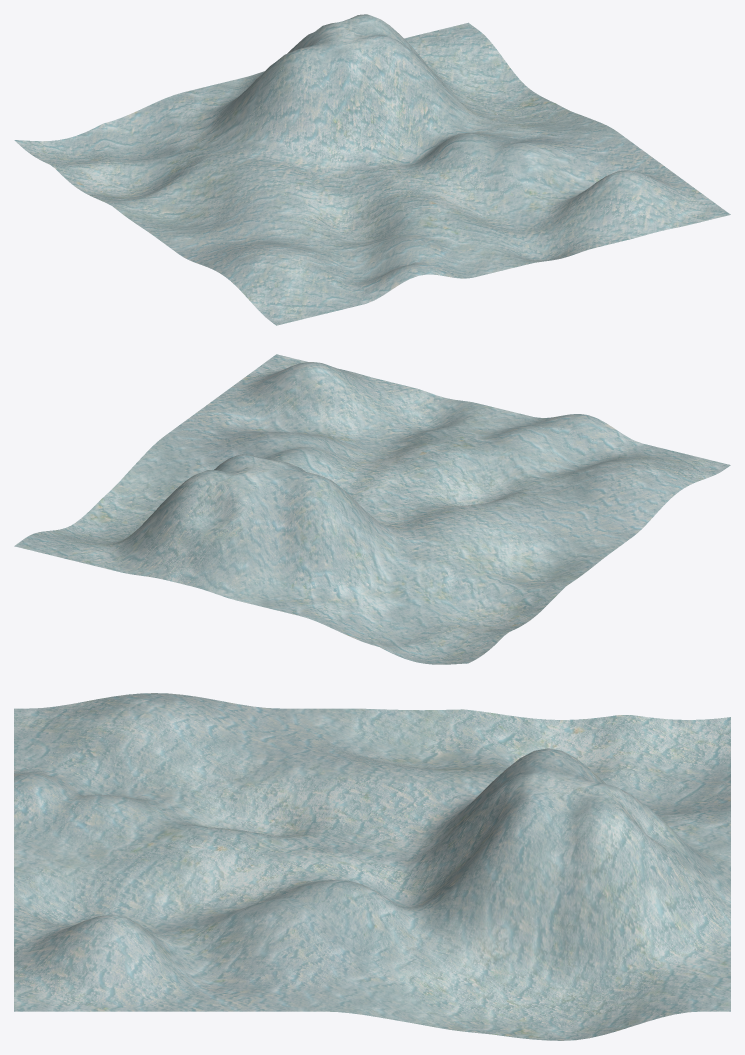
File: terrian-ice-field-v1.glb
3 views of the same model, one above another, from view 1: azimuth 30°, elevation 25°; view 2: azimuth 150°, elevation 25°; view 3: azimuth 270°, elevation 25° (orthographic). The views are drawn at different scales.
Visible parts, largest first — view 1: Plane; view 2: Plane; view 3: Plane.
Boxes of the visible parts, bbox=[...] form: Plane: bbox=[14, 14, 730, 325]; Plane: bbox=[14, 354, 730, 664]; Plane: bbox=[14, 693, 730, 1040].
Size of the model in its own units: 12.89 by 2.78 by 12.89.
Materials: 1 (1 with a texture image).
